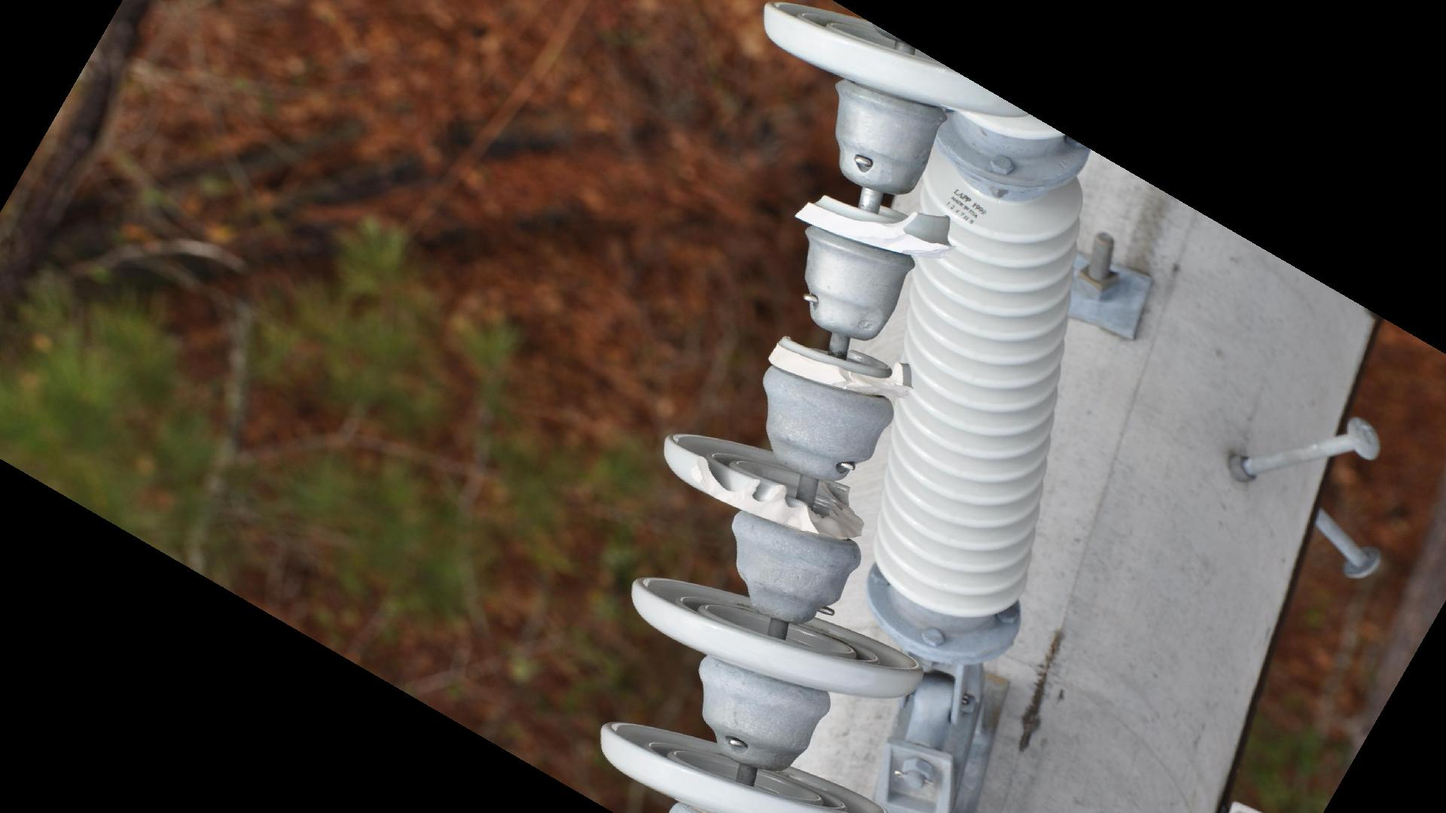insulator: (588, 1, 1035, 813), (865, 158, 1091, 628)
insulator_breakage: (682, 445, 871, 549), (789, 188, 959, 263), (761, 332, 917, 406)
